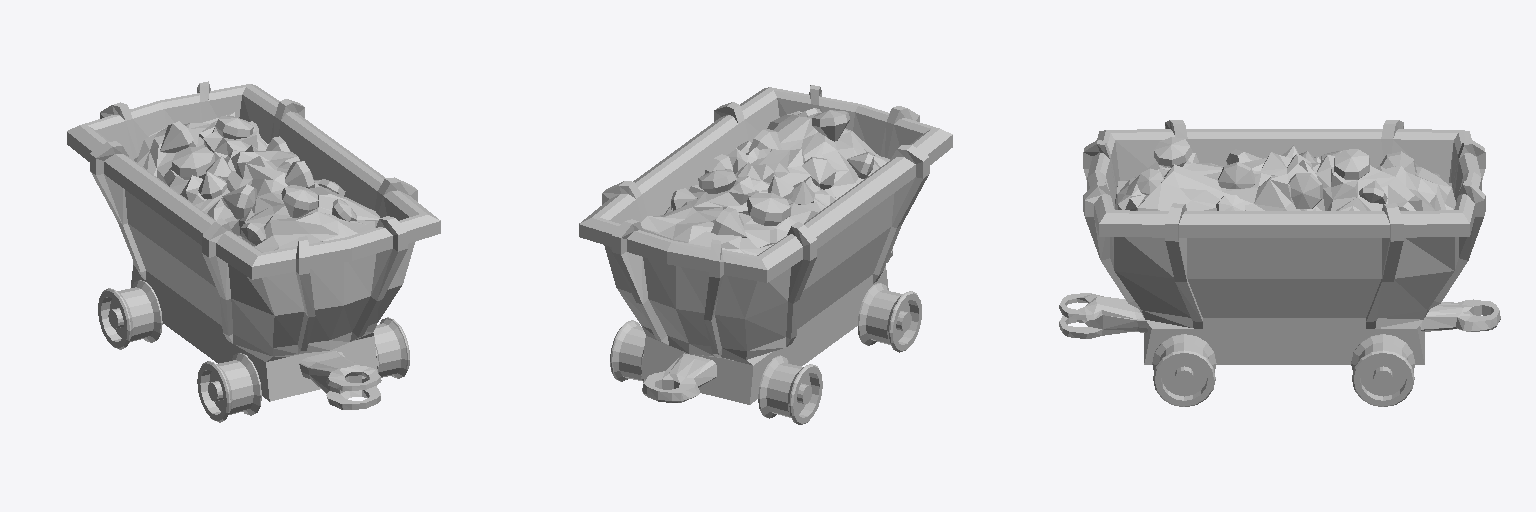
File: Cart Gem.obj
The picture shows the model from 3 angles: view 1: azimuth 30°, elevation 25°; view 2: azimuth 150°, elevation 25°; view 3: azimuth 270°, elevation 25°; orthographic projection.
Parts seen in each view (by area): view 1: Group47201, Group36871, Group64677, Group47126, Group47111, Group47231, Group59693, Group47141; view 2: Group47201, Group36871, Group59693, Group47111, Group47126, Group64677, Group47216, Group47156; view 3: Group47201, Group36871, Group64677, Group47141, Group47156, Group47231, Group47216.
Boxes of the visible parts, box(x1,y1,x2,y2) form: Group47201: box(67, 81, 440, 401); Group36871: box(133, 112, 379, 252); Group64677: box(171, 116, 356, 245); Group47126: box(98, 280, 162, 349); Group47111: box(197, 353, 261, 422); Group47231: box(299, 351, 381, 409); Group59693: box(160, 121, 345, 236); Group47141: box(362, 317, 409, 382); Group47201: box(579, 85, 952, 404); Group36871: box(641, 111, 889, 255); Group59693: box(674, 113, 868, 237); Group47111: box(858, 283, 921, 352); Group47126: box(758, 355, 822, 424); Group64677: box(671, 108, 874, 234); Group47216: box(642, 353, 716, 402); Group47156: box(610, 320, 645, 382); Group47201: box(1083, 120, 1485, 364); Group36871: box(1115, 152, 1455, 210); Group64677: box(1137, 137, 1416, 210); Group47141: box(1152, 334, 1216, 406); Group47156: box(1351, 334, 1415, 406); Group47231: box(1059, 293, 1148, 338); Group47216: box(1420, 299, 1500, 331).
Bounding box in the file's own units: 0.9509 × 0.9391 × 1.74.